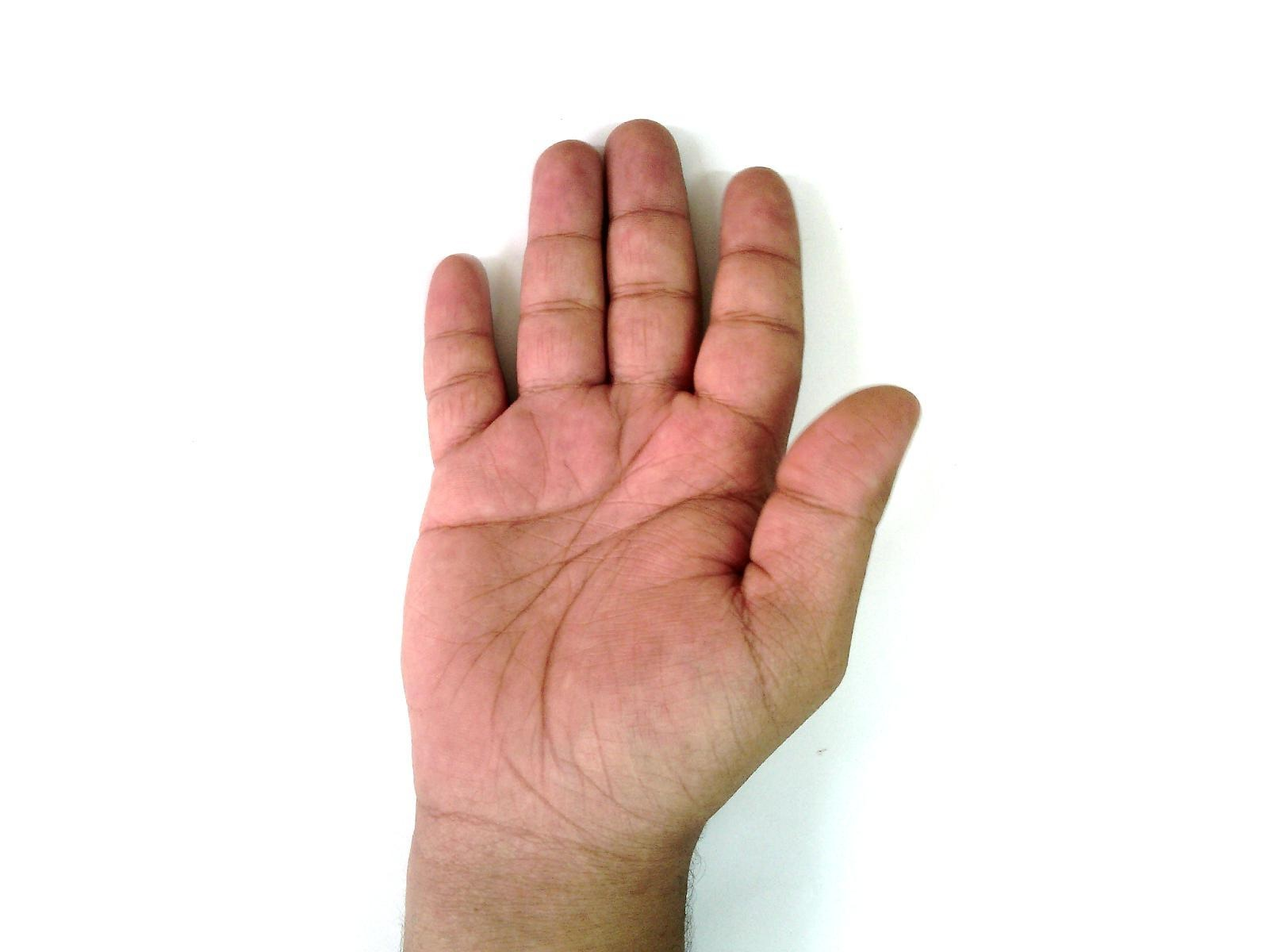open_palm: (394, 119, 921, 856)
